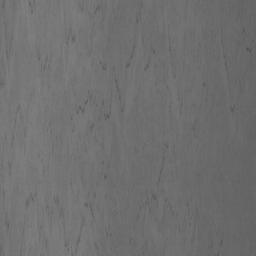Silk spot: (0, 0, 254, 256)
